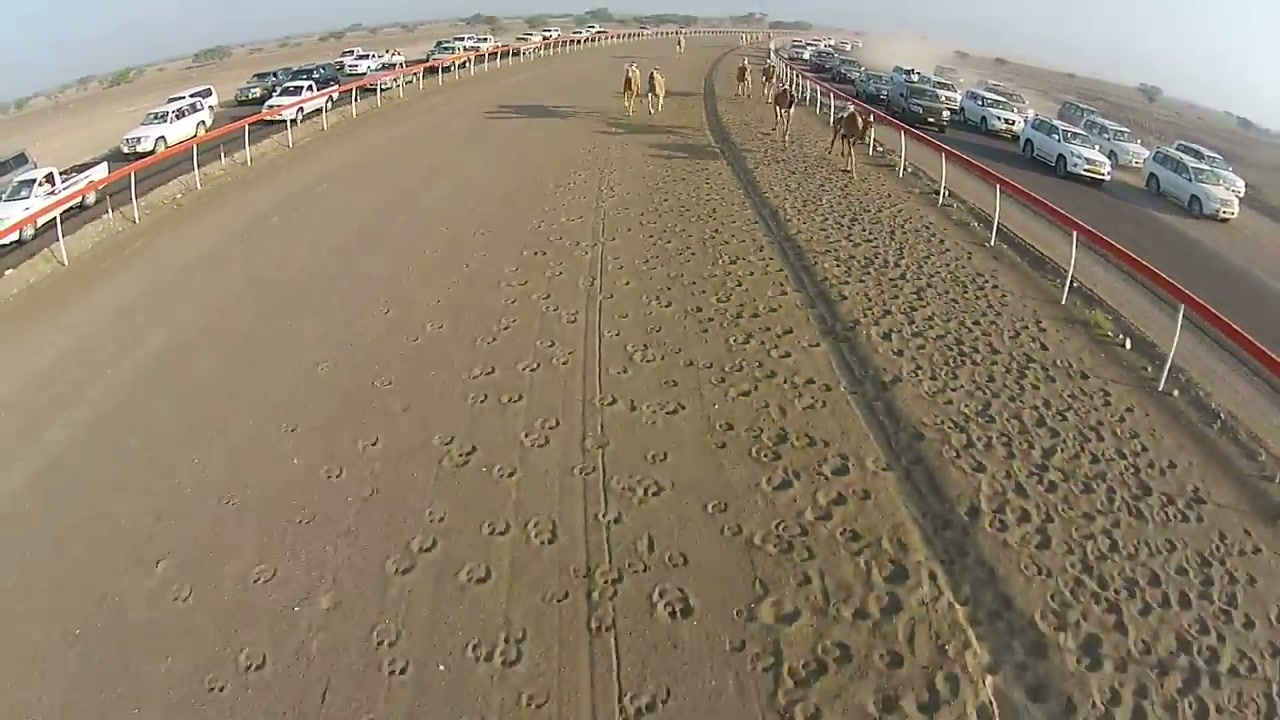animal_footprint: (748, 158, 1264, 716), (464, 628, 526, 669), (747, 594, 805, 627), (618, 684, 671, 719), (610, 475, 669, 505), (650, 583, 694, 621), (782, 656, 829, 688), (734, 642, 780, 673), (780, 693, 824, 719), (760, 465, 802, 492), (815, 638, 853, 667), (640, 400, 686, 423), (752, 530, 794, 555), (814, 452, 852, 479), (526, 515, 557, 546), (440, 444, 477, 469), (371, 620, 402, 648), (588, 604, 615, 636), (457, 561, 492, 585), (626, 343, 665, 364), (588, 565, 624, 587), (236, 648, 266, 674), (384, 552, 416, 576), (814, 486, 848, 507), (875, 647, 905, 670), (379, 655, 409, 677), (407, 534, 438, 554), (517, 690, 549, 709), (749, 444, 781, 463), (804, 502, 834, 522), (481, 519, 510, 537), (250, 564, 276, 584), (520, 431, 549, 448), (170, 583, 193, 604), (317, 590, 340, 611), (464, 365, 496, 380), (204, 674, 228, 694), (794, 395, 825, 410), (582, 434, 609, 451), (357, 434, 381, 453), (623, 558, 651, 574), (596, 510, 622, 527), (491, 464, 518, 480), (542, 588, 569, 604), (423, 507, 447, 524), (664, 551, 688, 568), (550, 350, 573, 367), (571, 463, 597, 478), (321, 465, 345, 481), (534, 416, 560, 430), (494, 316, 518, 331), (294, 508, 315, 525), (725, 637, 747, 653), (704, 500, 727, 514), (516, 360, 540, 373), (595, 394, 619, 407), (721, 523, 743, 537), (645, 450, 667, 464), (606, 365, 631, 377), (499, 392, 524, 404), (432, 434, 455, 447), (468, 392, 488, 406), (371, 376, 394, 388), (559, 310, 578, 324), (219, 493, 239, 506), (535, 338, 557, 349), (475, 335, 497, 346), (424, 321, 445, 332), (502, 278, 527, 287), (315, 361, 332, 373), (404, 333, 422, 344), (541, 302, 559, 312)
